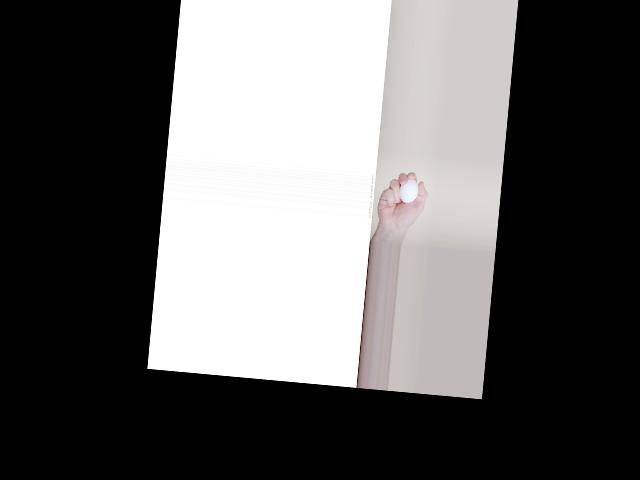egg: (398, 178, 419, 204)
